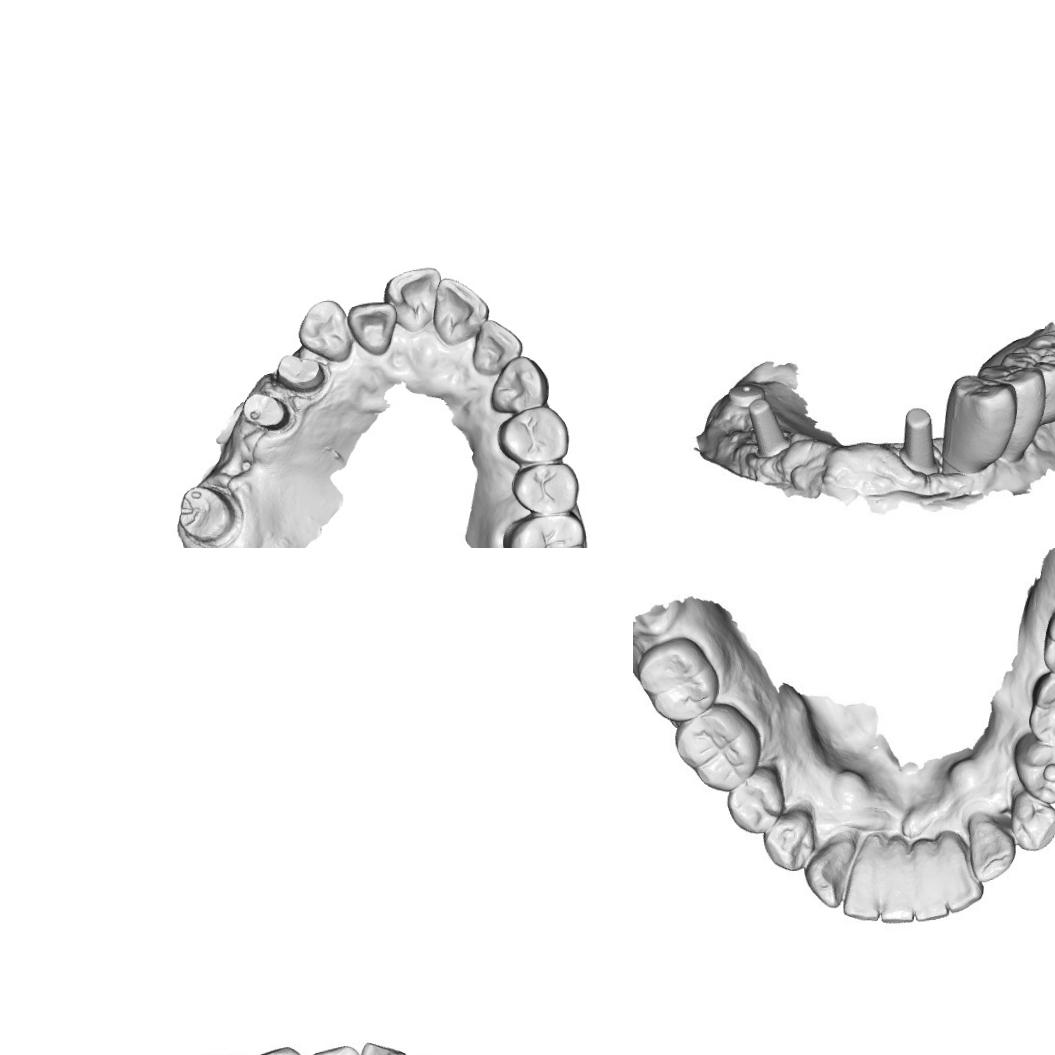abutment: (746, 398, 791, 468), (900, 406, 939, 482)
canine: (804, 835, 864, 910), (294, 296, 354, 366), (486, 353, 552, 414), (968, 812, 1018, 884)
crown: (174, 481, 244, 548), (269, 348, 333, 398), (241, 389, 298, 437)
implant: (725, 372, 767, 408)
incisor: (840, 833, 890, 923), (380, 265, 444, 334), (430, 275, 490, 348), (936, 830, 984, 912), (907, 838, 954, 921), (470, 316, 524, 378), (346, 300, 399, 358), (880, 839, 916, 924), (342, 1035, 403, 1055)
molar: (636, 639, 714, 721), (674, 712, 758, 785), (500, 511, 587, 548), (1002, 355, 1055, 414), (1029, 671, 1055, 748), (1027, 328, 1055, 399)
premolar: (932, 374, 1018, 481), (980, 366, 1052, 466), (494, 402, 572, 467), (727, 766, 791, 830), (510, 460, 580, 517), (764, 807, 820, 870), (1007, 783, 1055, 850), (1020, 736, 1055, 802)
